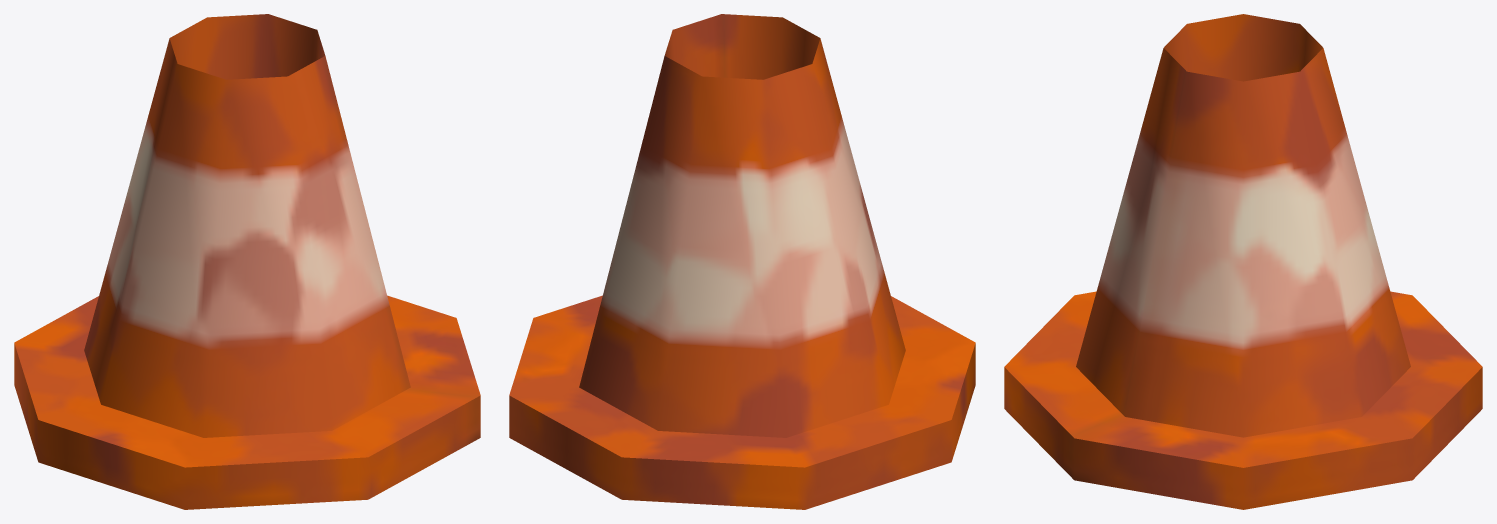
File: TraficCone.fbx
3 views of the same model, side by side, from view 1: azimuth 30°, elevation 25°; view 2: azimuth 150°, elevation 25°; view 3: azimuth 270°, elevation 25° (orthographic).
Parts seen in each view (by area): view 1: TraficCone; view 2: TraficCone; view 3: TraficCone.
Part boxes in pixels (bbox=[...]): TraficCone: bbox=[14, 14, 480, 509]; TraficCone: bbox=[509, 14, 975, 509]; TraficCone: bbox=[1004, 14, 1482, 509].
Bounding box in the file's own units: 83.29 × 100 × 100.
